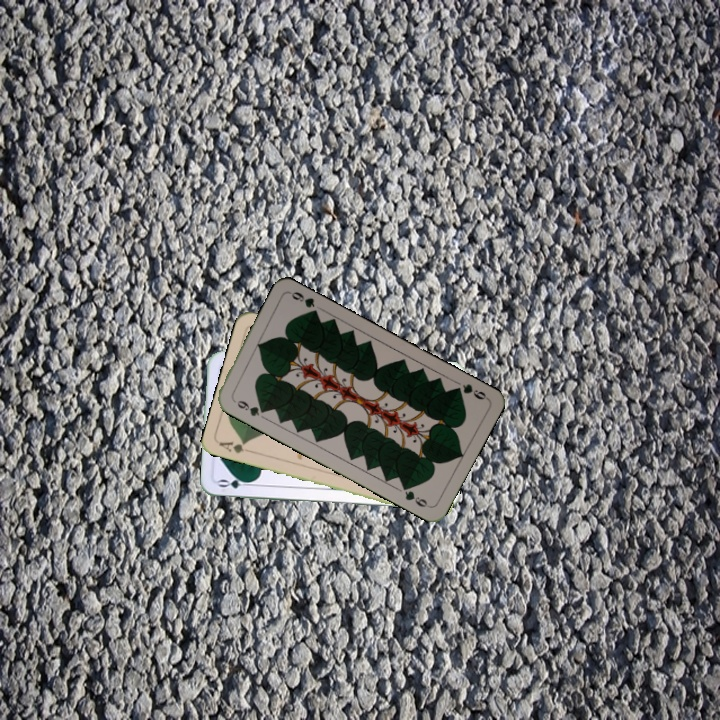G9: (229, 395, 269, 419), (449, 379, 490, 402)
GA: (216, 437, 248, 456)
GO: (215, 475, 255, 491)
